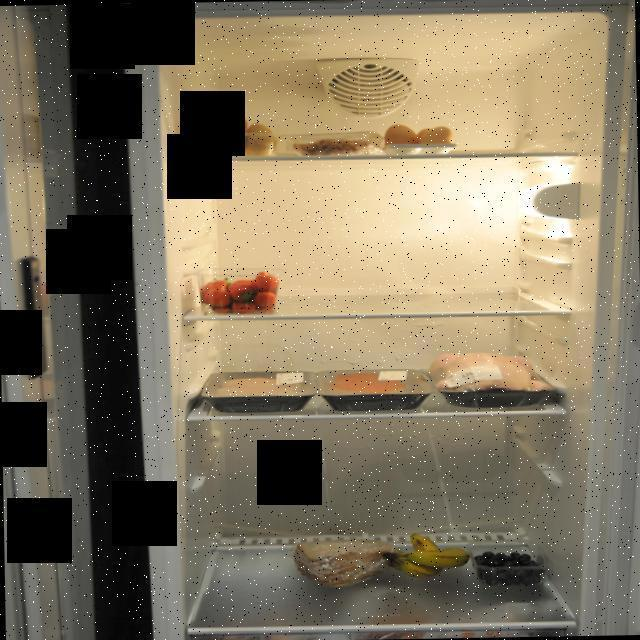banana: (384, 531, 474, 581)
beef: (314, 366, 436, 410)
blueberries: (468, 536, 553, 588)
bread: (292, 539, 399, 587)
chicken: (430, 344, 562, 409)
chicken_breast: (200, 370, 318, 413)
eggs: (380, 120, 460, 156)
potato: (188, 108, 276, 156)
shrimp: (285, 134, 382, 158)
strawberries: (197, 269, 278, 313)
